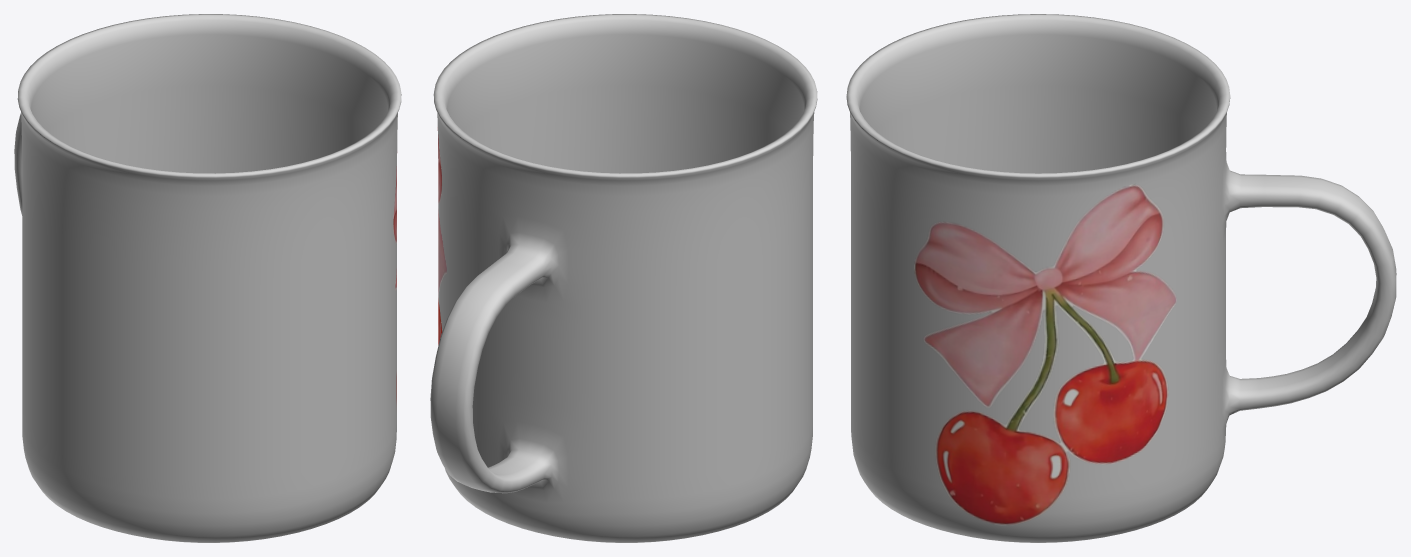
Rendered from Cup1 model.fbx.
The picture shows the model from 3 angles, left to right: view 1: azimuth 30°, elevation 25°; view 2: azimuth 150°, elevation 25°; view 3: azimuth 270°, elevation 25°; orthographic projection.
Visible parts, largest first — view 1: Tasse; view 2: Tasse; view 3: Tasse.
Boxes of the visible parts, x1=… form: Tasse: x1=14, y1=14, x2=401, y2=542; Tasse: x1=430, y1=14, x2=817, y2=542; Tasse: x1=846, y1=14, x2=1396, y2=542.
Size of the model in its own units: 203 by 221 by 292.
Materials: 1 (1 with a texture image).
